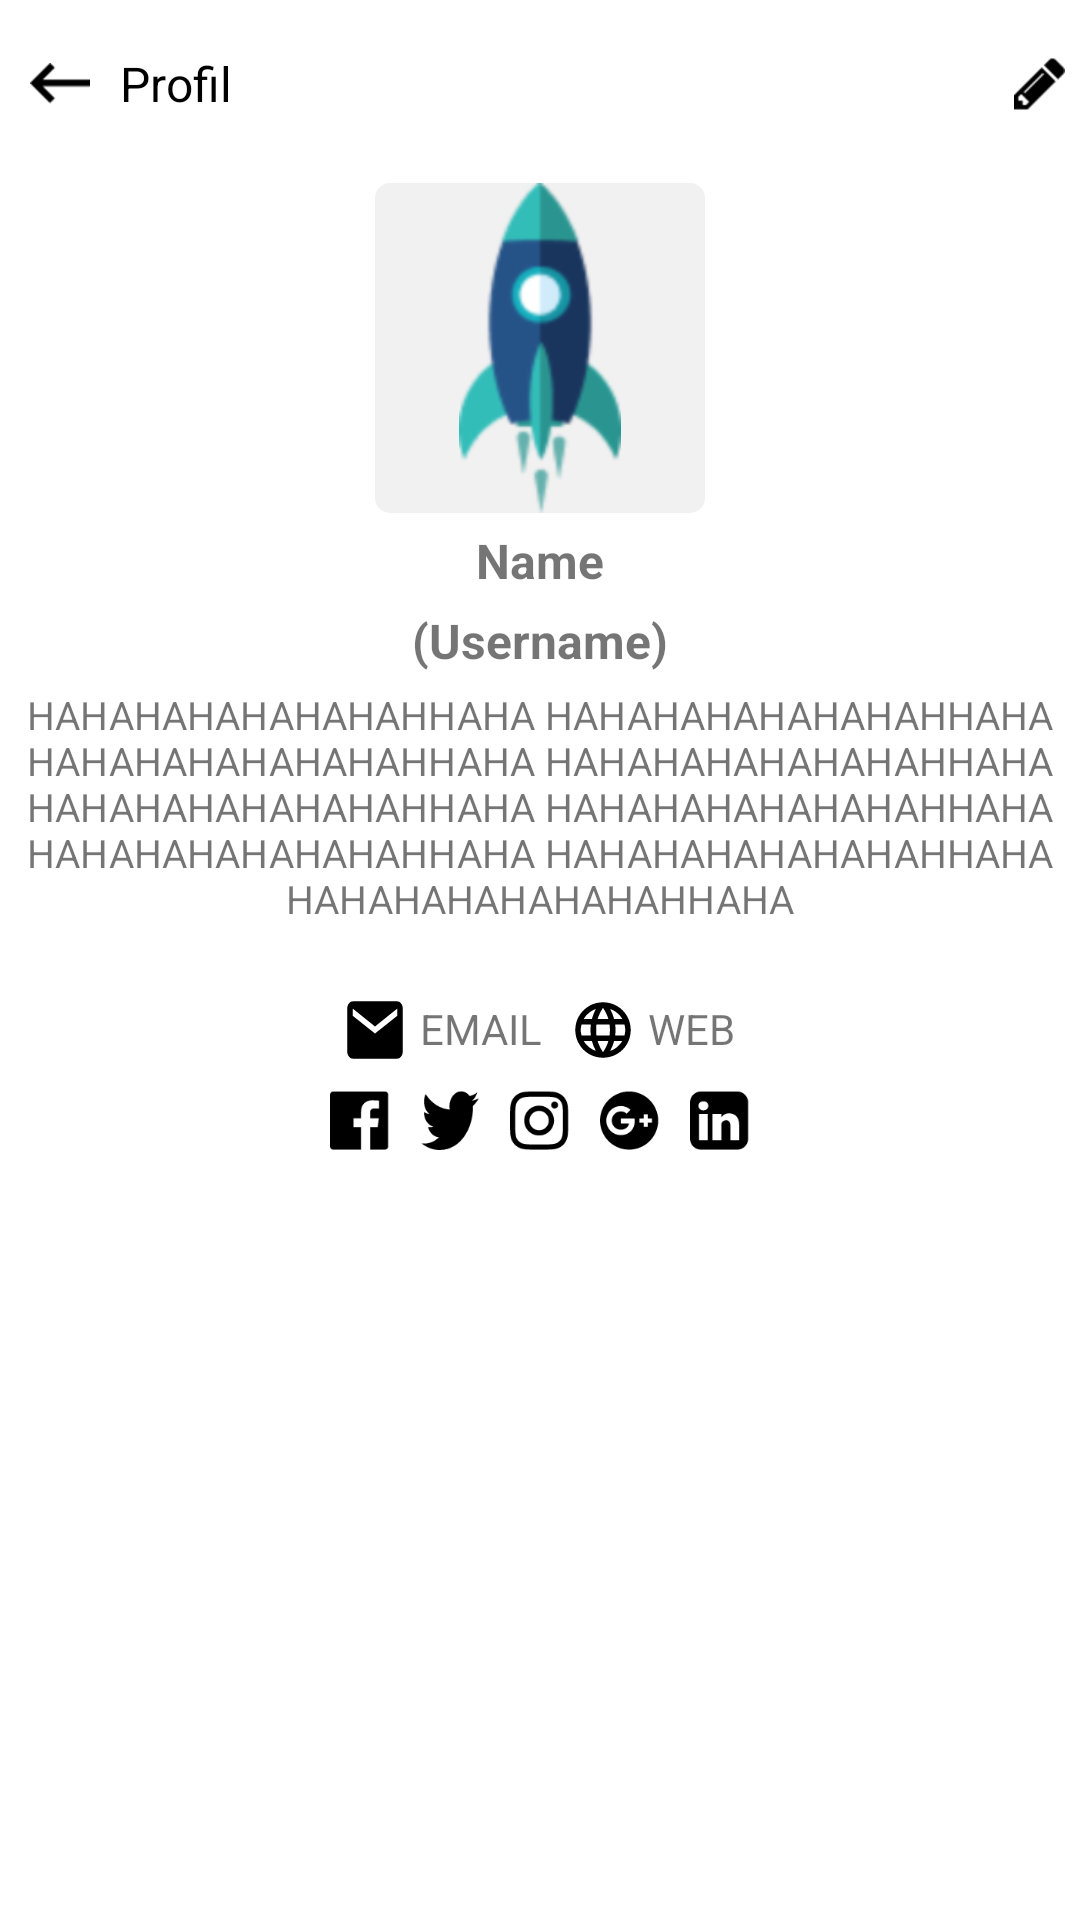

Point at icon controls on the screen. Image size 1080 × 1920, points as point (x, y).
back: point (60, 83)
globe: point (603, 1030)
pencil: point (1039, 84)
rocket: point (540, 348)
